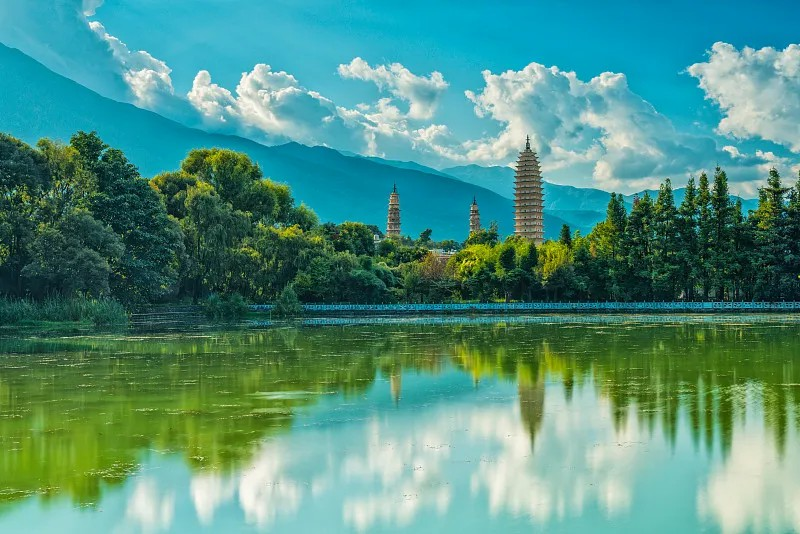ThreePagoda: (513, 133, 546, 242)
